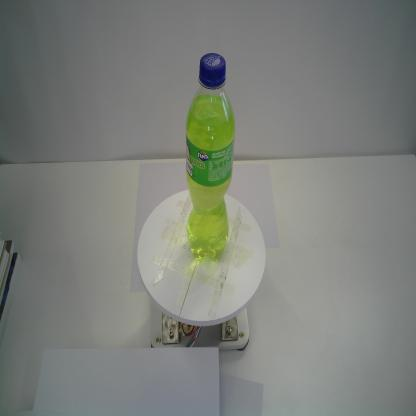Drink: (180, 50, 237, 266)
